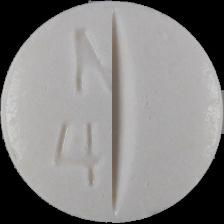54868-5667: (0, 0, 224, 224)
